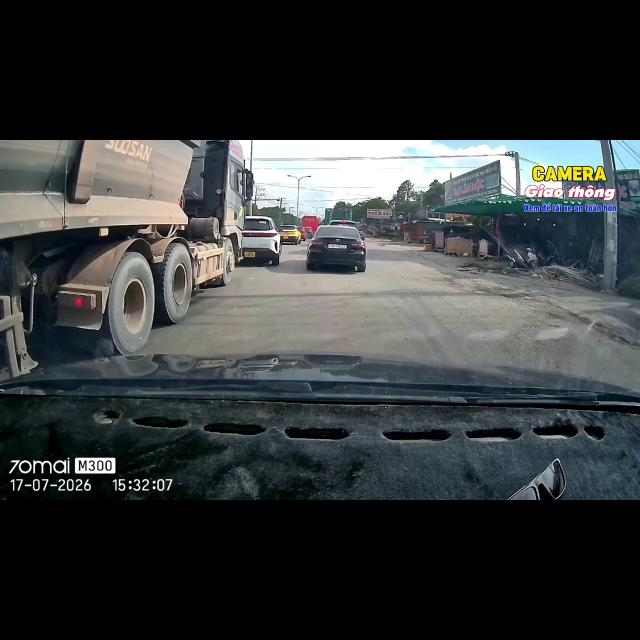car: (306, 226, 366, 272), (243, 216, 281, 265), (329, 220, 364, 237), (279, 225, 301, 244), (328, 220, 357, 228), (297, 227, 307, 241), (304, 227, 313, 238)
truck: (0, 140, 253, 377), (301, 215, 321, 234)
